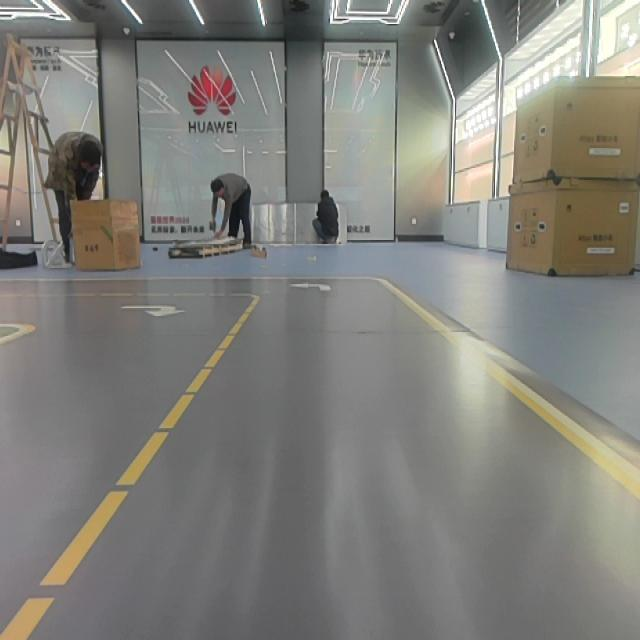left_lane: (0, 305, 252, 640)
right_lane: (387, 281, 636, 498)
